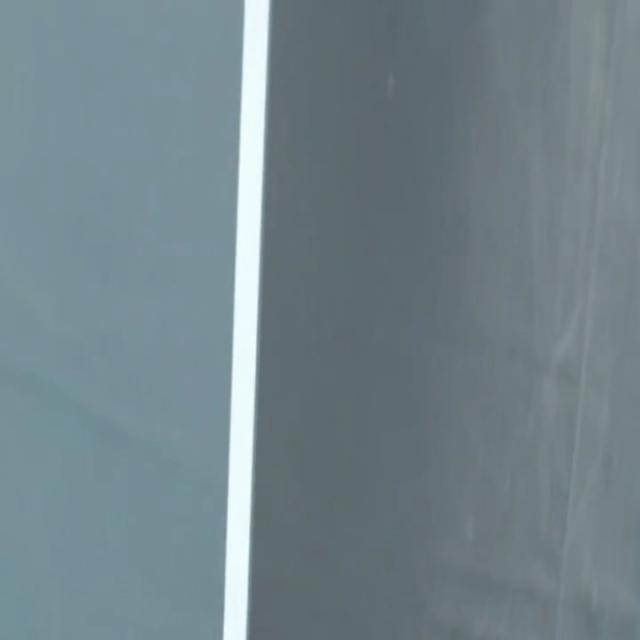left: (222, 0, 270, 639)
